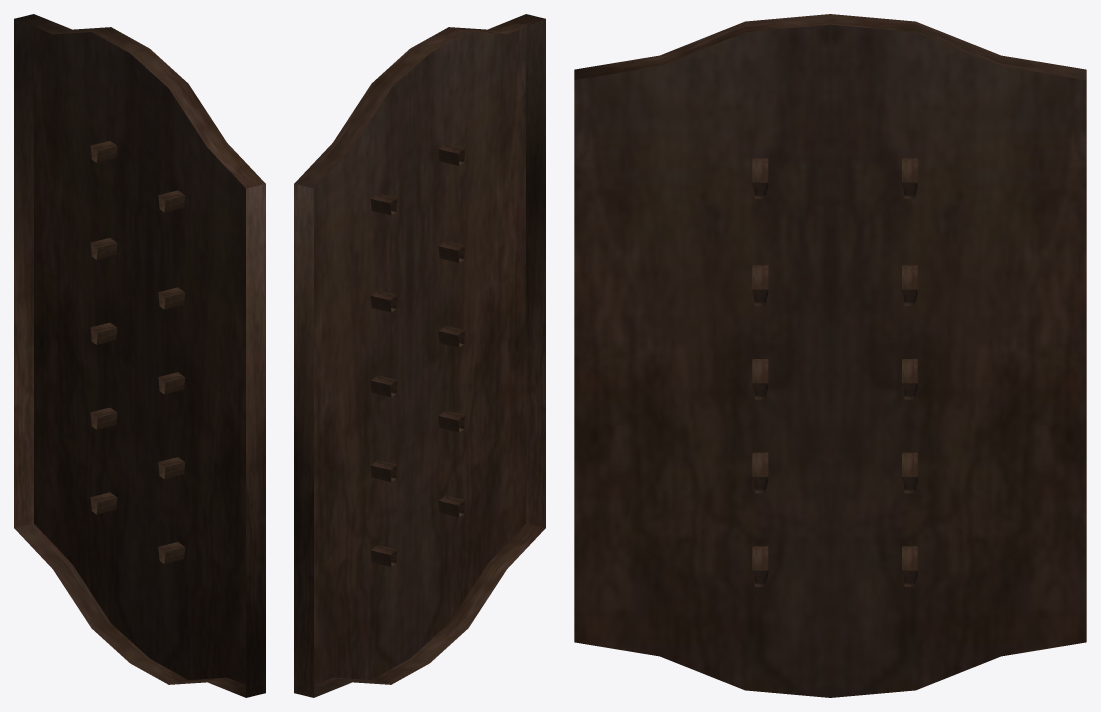
Rendered from shop_bsmith_rack.fbx.
The picture shows the model from 3 angles, left to right: view 1: azimuth 30°, elevation 25°; view 2: azimuth 150°, elevation 25°; view 3: azimuth 270°, elevation 25°; orthographic projection. The views are drawn at different scales.
Visible parts, largest first — view 1: pCube6, hook_05, hook_03, hook_06, hook_01, hook_02, hook_10, hook_04, hook_08, hook_07, hook_09; view 2: pCube6, hook_01, hook_06, hook_07, hook_09, hook_02, hook_03, hook_05, hook_04, hook_10, hook_08; view 3: pCube6.
Boxes of the visible parts, <box> form: pCube6: <box>14,14,265,697</box>; hook_05: <box>90,322,117,344</box>; hook_03: <box>90,492,117,514</box>; hook_06: <box>158,372,185,394</box>; hook_01: <box>158,542,185,563</box>; hook_02: <box>90,407,117,429</box>; hook_10: <box>158,190,185,212</box>; hook_04: <box>158,457,185,479</box>; hook_08: <box>158,287,185,309</box>; hook_07: <box>90,238,117,259</box>; hook_09: <box>90,141,117,162</box>; pCube6: <box>294,14,545,697</box>; hook_01: <box>438,495,465,517</box>; hook_06: <box>438,325,465,347</box>; hook_07: <box>370,290,397,312</box>; hook_09: <box>370,193,397,215</box>; hook_02: <box>370,460,397,482</box>; hook_03: <box>370,545,397,566</box>; hook_05: <box>370,375,397,397</box>; hook_04: <box>438,410,465,432</box>; hook_10: <box>438,144,465,165</box>; hook_08: <box>438,241,465,262</box>; pCube6: <box>574,14,1086,697</box>.
Bounding box in the file's own units: 55.78 × 503 × 347.
Materials: 1 (1 with a texture image).
